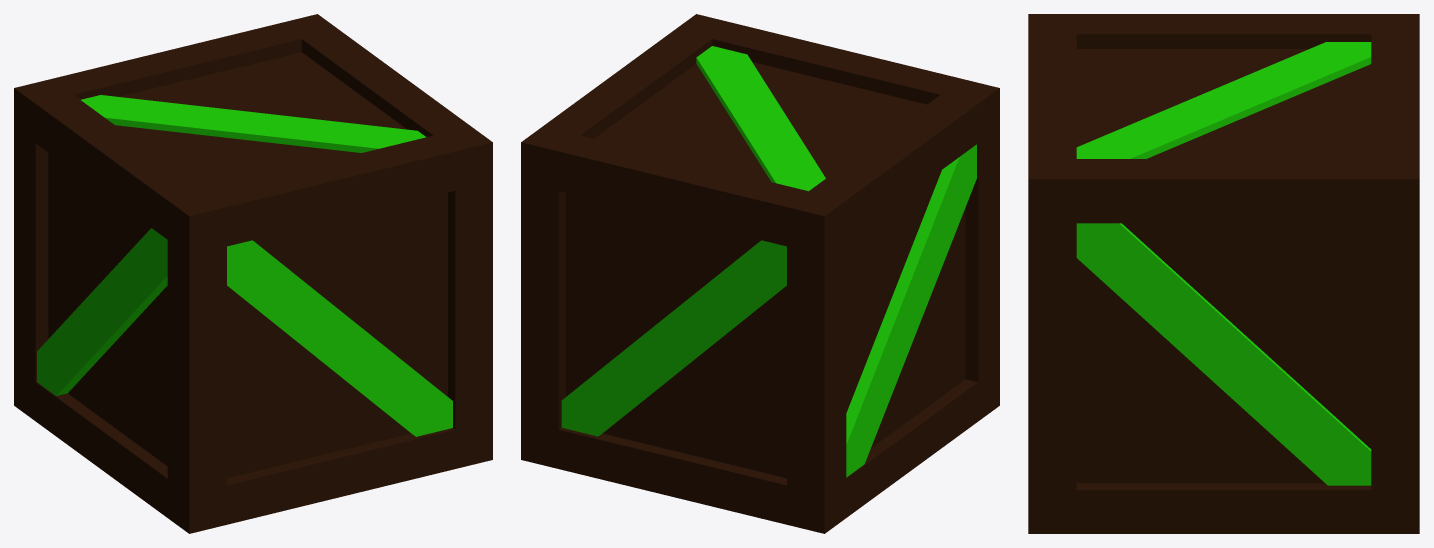
The picture shows the model from 3 angles, left to right: view 1: azimuth 30°, elevation 25°; view 2: azimuth 150°, elevation 25°; view 3: azimuth 270°, elevation 25°; orthographic projection. The views are drawn at different scales.
Visible parts, largest first — view 1: Box001; view 2: Box001; view 3: Box001.
Part boxes in pixels (x1=…): Box001: x1=14, y1=14, x2=492, y2=533; Box001: x1=521, y1=14, x2=999, y2=533; Box001: x1=1028, y1=14, x2=1419, y2=533.
Size of the model in its own units: 38.83 by 38.83 by 38.83.
